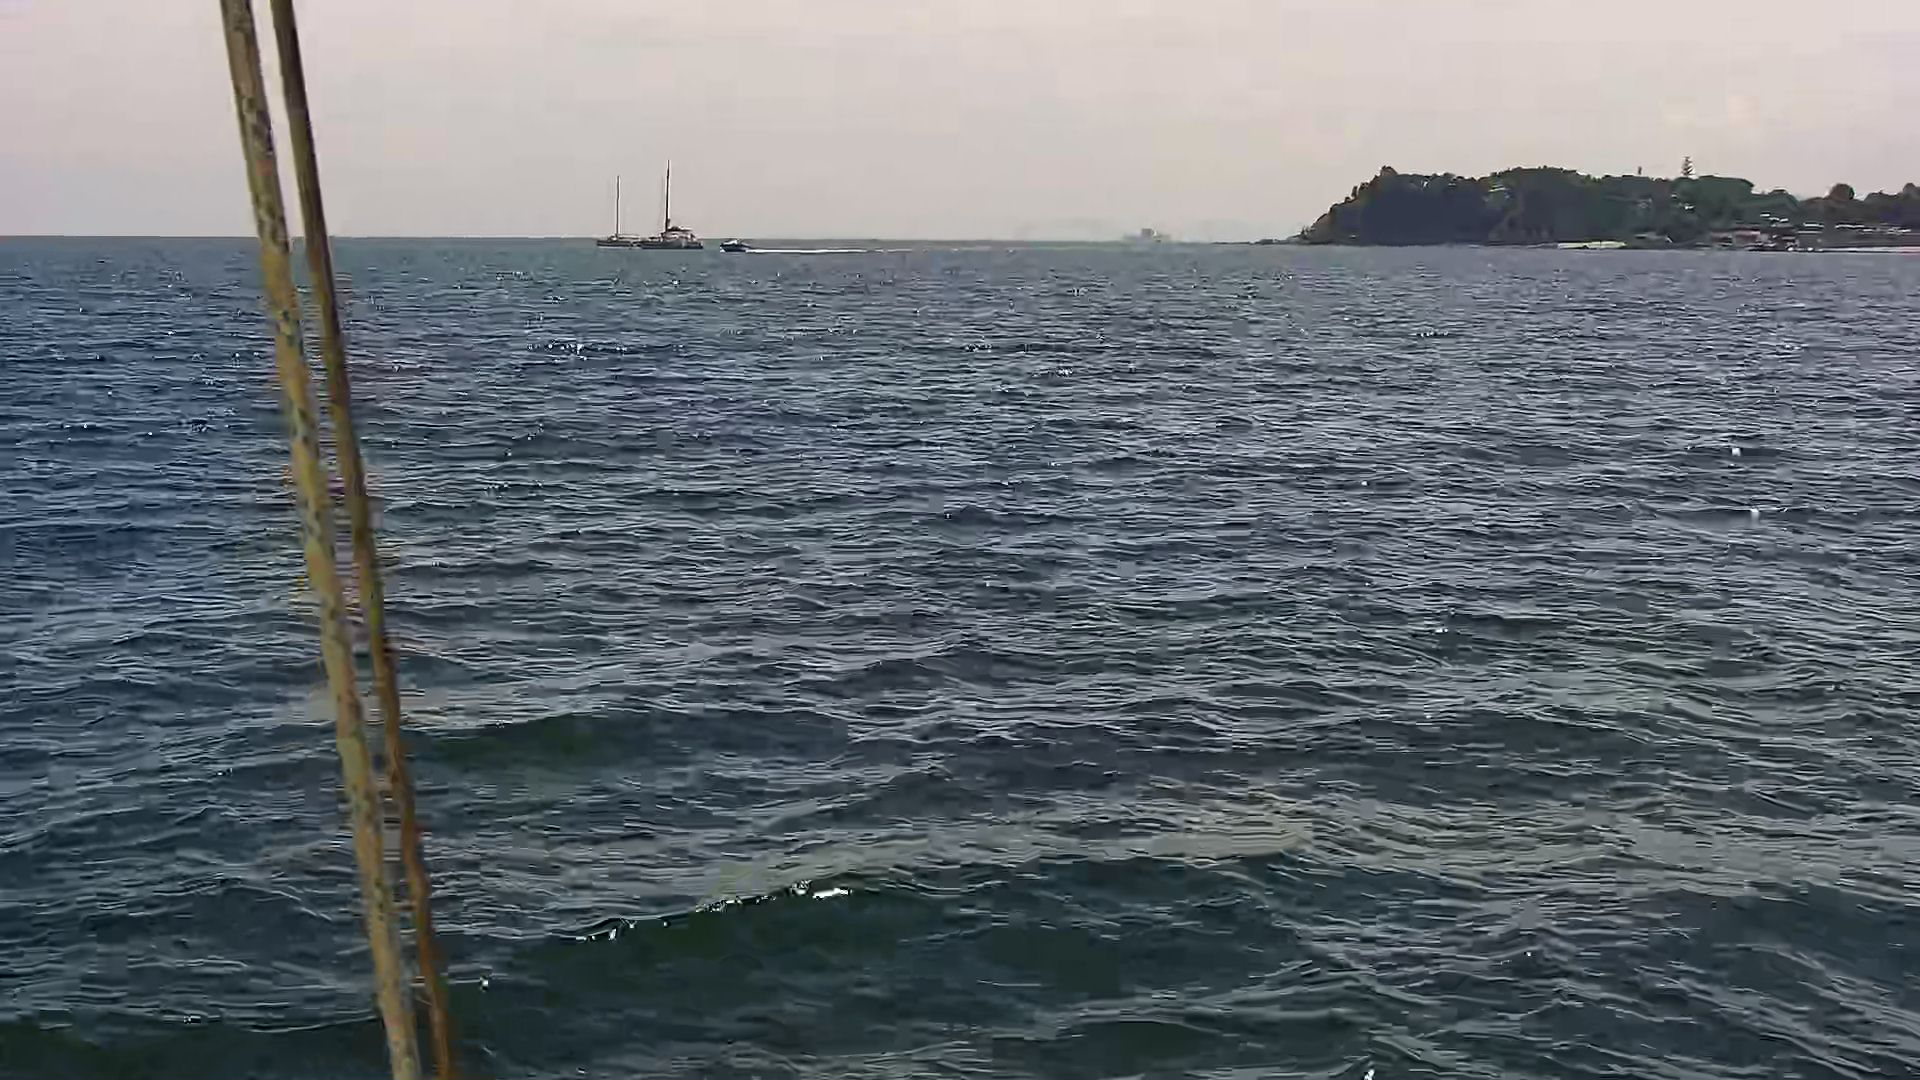boat: (642, 164, 698, 253), (591, 173, 645, 255), (719, 229, 746, 258)
